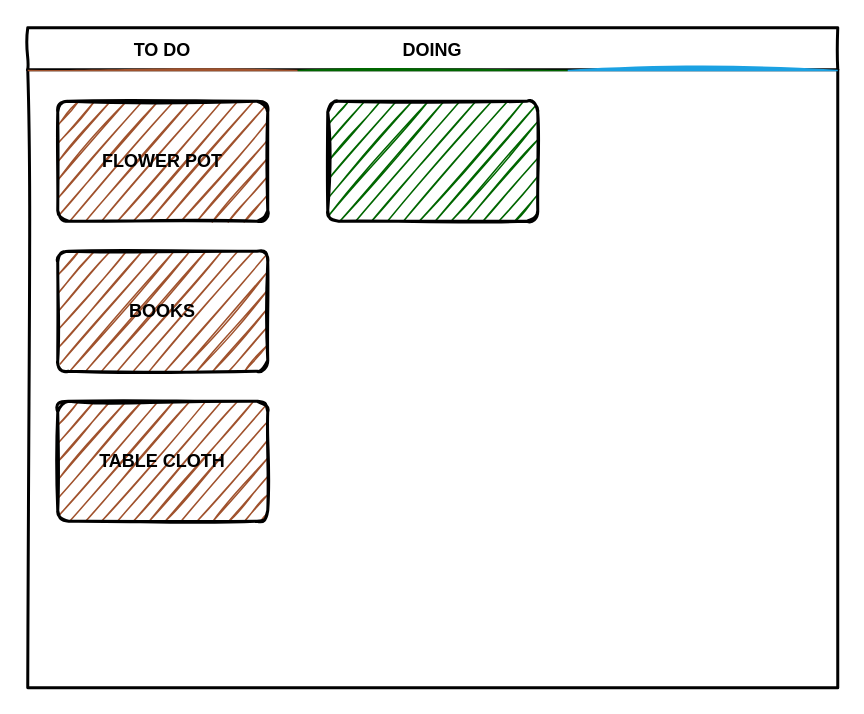
Some shapes in this 864 by 714 pixel diagram are drawn without their labels. The centre of each missing label's shape, as x and y in pixels:
DONE: [702,378]
TABLE: [432,160]
